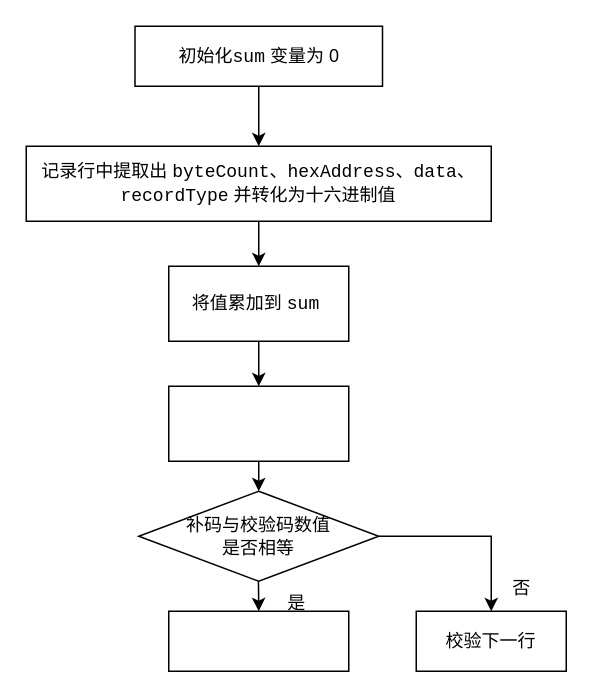
Image size: 593x698. Some labels were removed from this diagram. The centre of each missing label's shape, as x and y in pixels:
"计算出 sum 的补码" goes at [258,423].
"输出文件类型行的数据部分" goes at [258,640].
